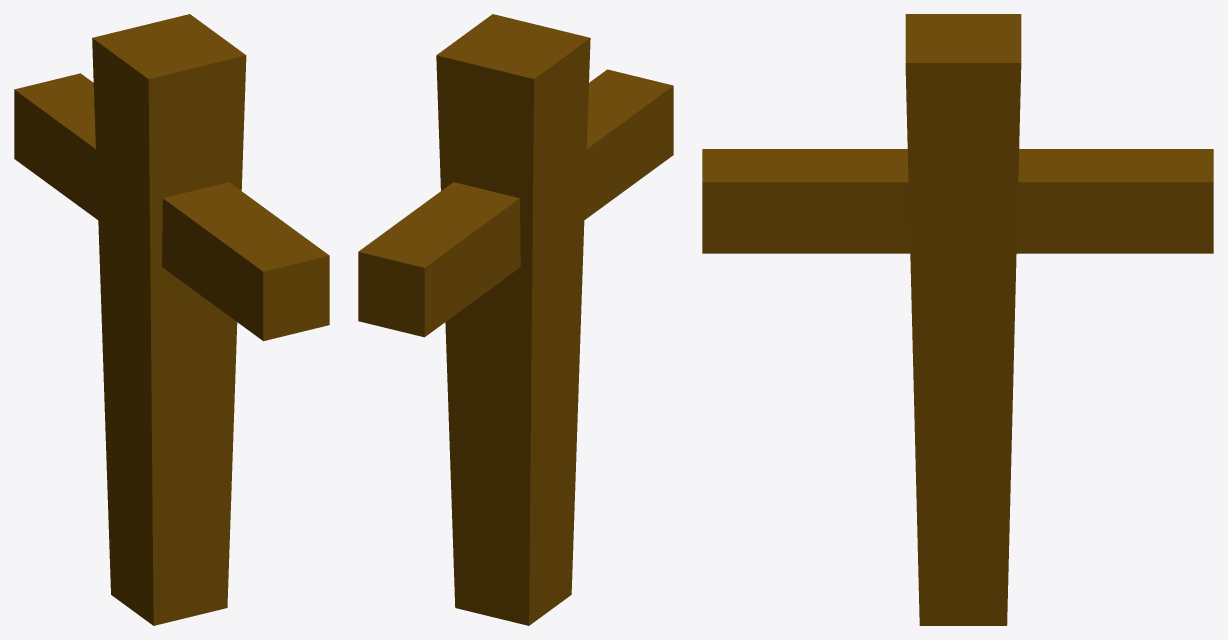
The model's file is fence.fbx.
The picture shows the model from 3 angles, left to right: view 1: azimuth 30°, elevation 25°; view 2: azimuth 150°, elevation 25°; view 3: azimuth 270°, elevation 25°; orthographic projection. The views are drawn at different scales.
Parts seen in each view (by area): view 1: pCube175; view 2: pCube175; view 3: pCube175.
Part boxes in pixels (x1,y1,x2,y2): pCube175: (14, 14, 329, 625); pCube175: (358, 14, 673, 625); pCube175: (702, 14, 1213, 625).
Bounding box in the file's own units: 1 × 5.42 × 4.41.
